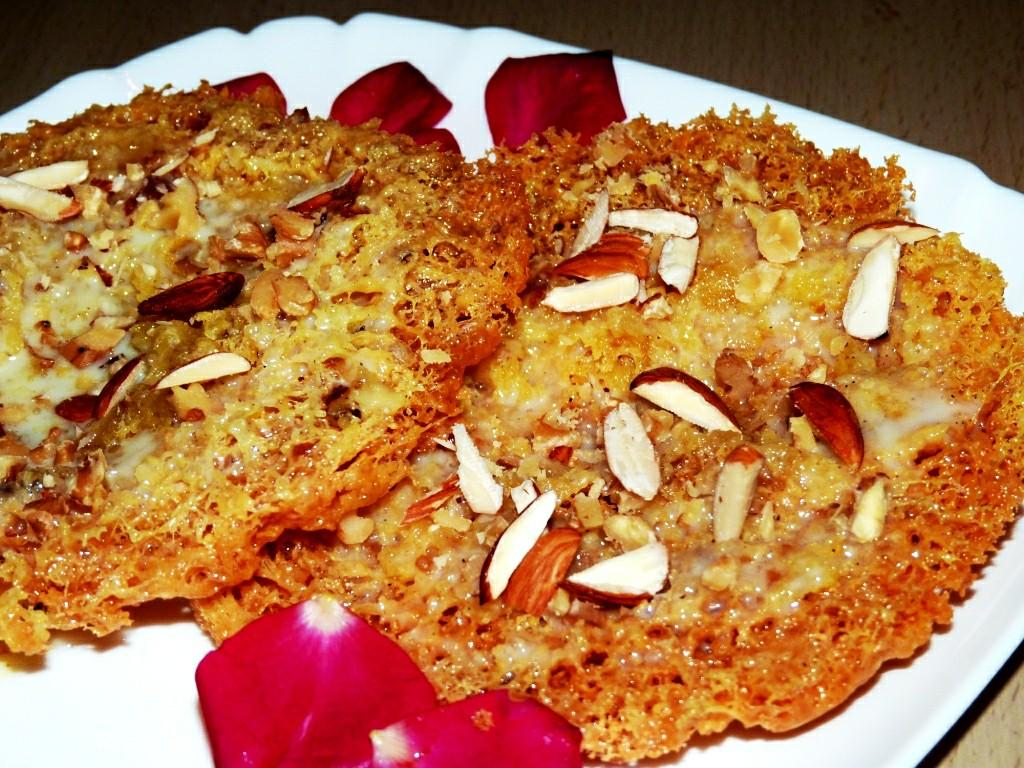Ghevar: (191, 94, 1024, 759), (0, 79, 540, 665)
